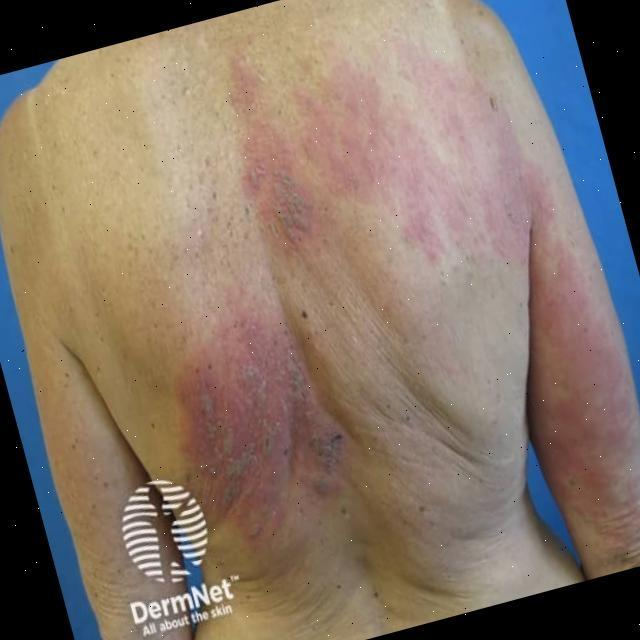Shingles: (229, 44, 630, 492), (176, 314, 343, 532)
